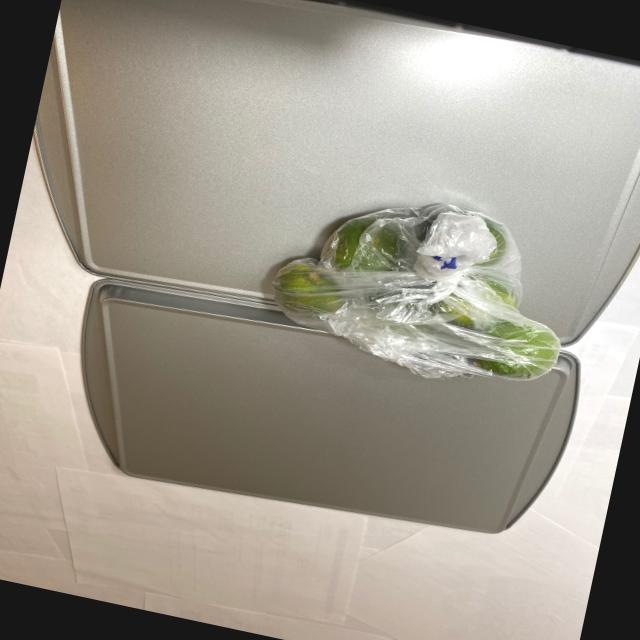lemon: (262, 174, 578, 383)
